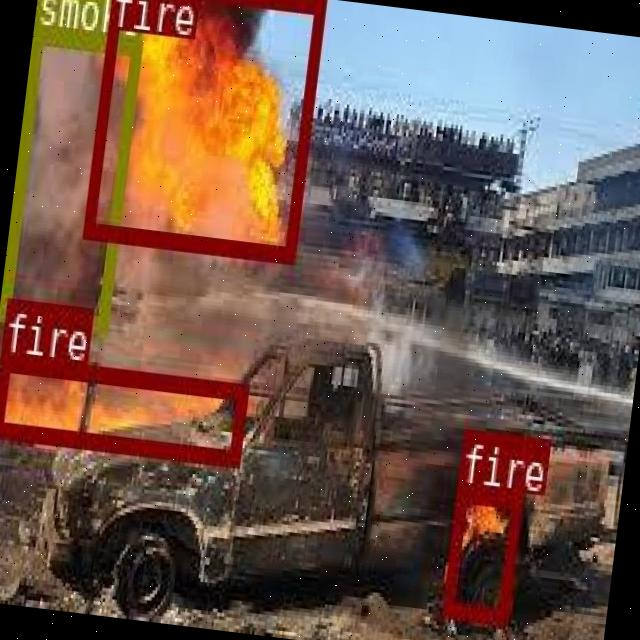fire: (83, 0, 325, 258), (0, 353, 247, 464), (442, 484, 522, 621)
smoke: (0, 23, 141, 328)
